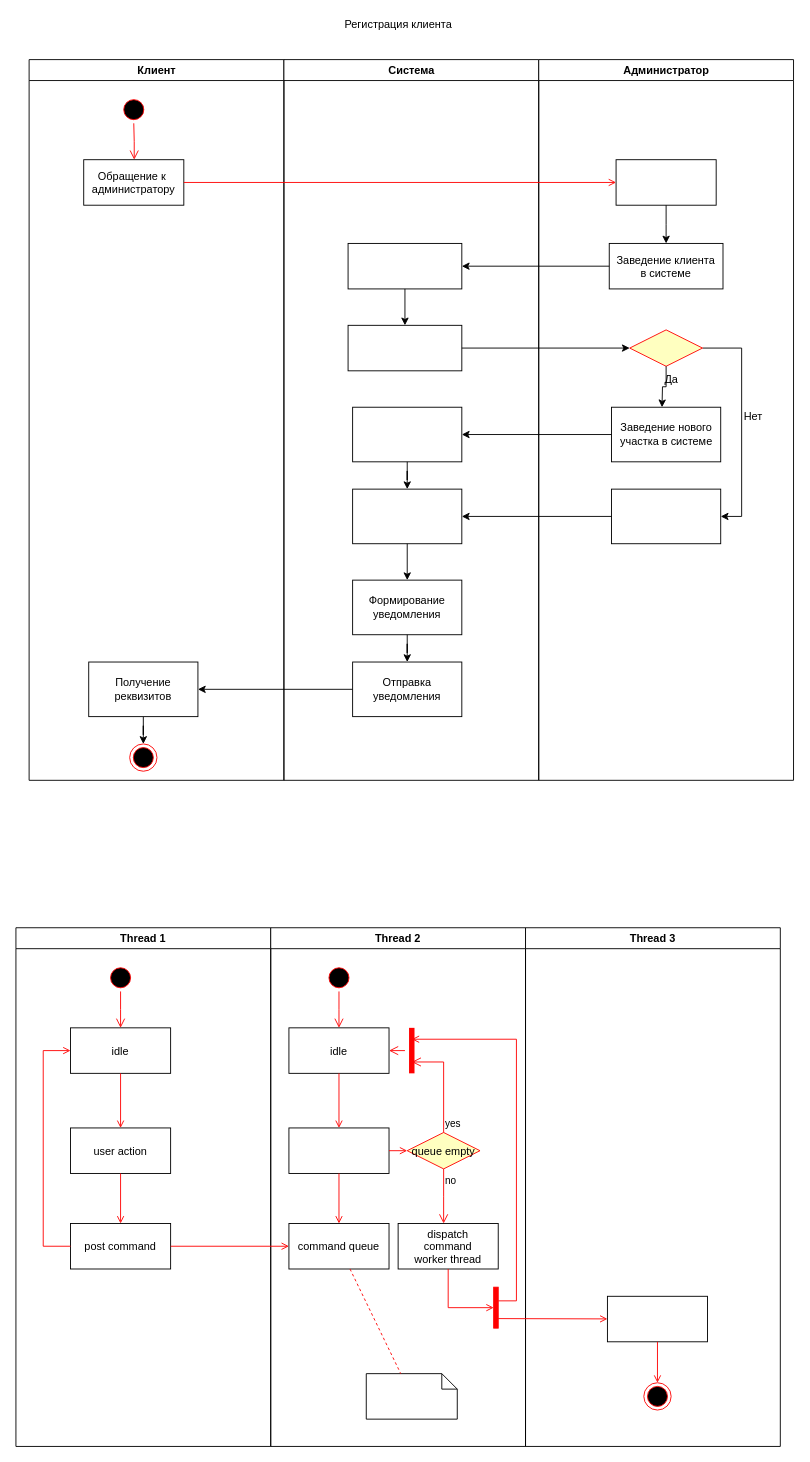
This 810x1462 diagram has some shape labels left out. The shapes that lost their labels are listed below. From the top down, each one's centre as x and y in pixels, then its label:
At pixel 665 182: "Заключение договора".
At pixel 404 266: "Создание клиента".
At pixel 404 347: "Предложение завести участок".
At pixel 666 347: "Акцепт".
At pixel 407 434: "Создание нового участка".
At pixel 407 516: "Связка с клиентом".
At pixel 666 516: "Выбор существующего участка".
At pixel 338 1150: "check for new commands".
At pixel 657 1318: "process command".
At pixel 411 1396: "critical section".
